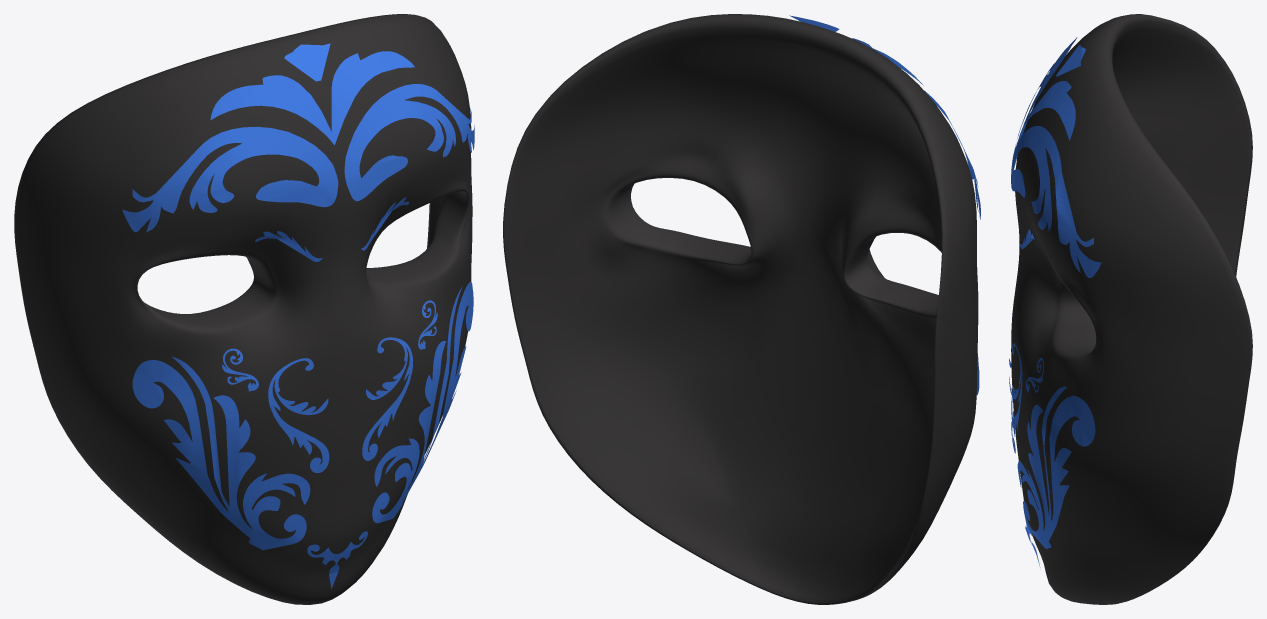
Rendered from mask-2.fbx.
The picture shows the model from 3 angles, left to right: view 1: azimuth 30°, elevation 25°; view 2: azimuth 150°, elevation 25°; view 3: azimuth 270°, elevation 25°; orthographic projection. The views are drawn at different scales.
Visible parts, largest first — view 1: mask-2; view 2: mask-2; view 3: mask-2.
Boxes of the visible parts, x1=… form: mask-2: x1=14, y1=14, x2=474, y2=604; mask-2: x1=503, y1=14, x2=980, y2=604; mask-2: x1=1009, y1=14, x2=1252, y2=604.
Bounding box in the file's own units: 15.1 × 19.18 × 7.78.
